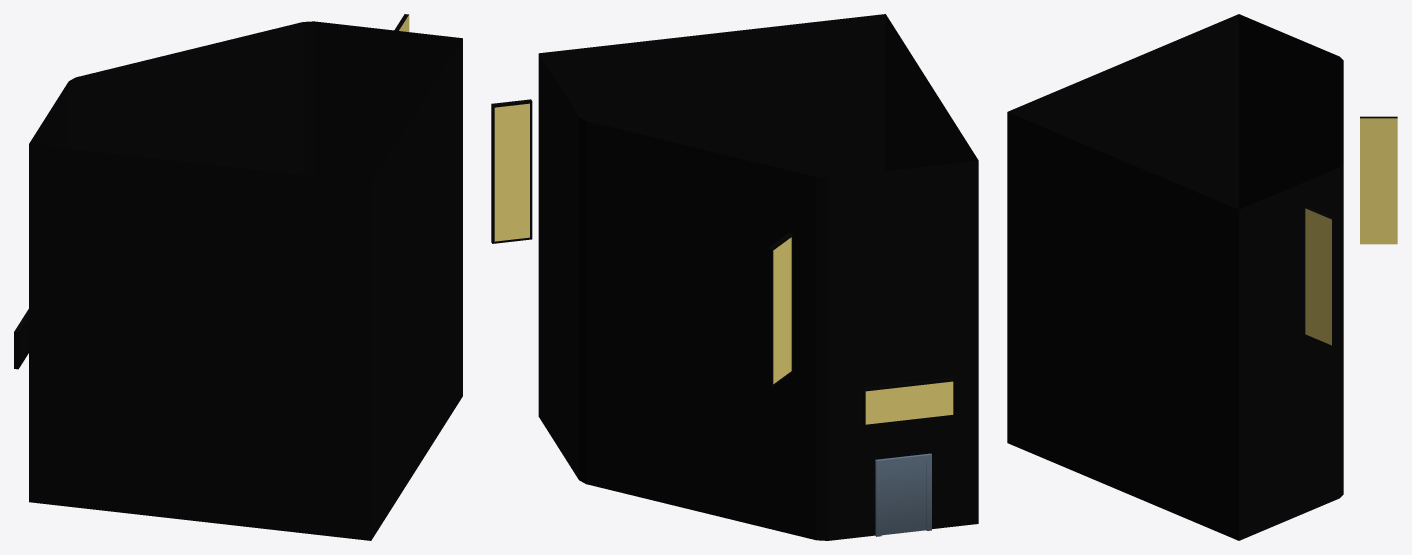
File: Comercio_Edificio_Esquina_04.FBX
The picture shows the model from 3 angles, left to right: view 1: azimuth 30°, elevation 25°; view 2: azimuth 150°, elevation 25°; view 3: azimuth 270°, elevation 25°; orthographic projection. The views are drawn at different scales.
Visible parts, largest first — view 1: Comercio_Edificio_Esquina_04; view 2: Comercio_Edificio_Esquina_04; view 3: Comercio_Edificio_Esquina_04.
Part boxes in pixels (x1,y1,x2,y2): Comercio_Edificio_Esquina_04: (14,14,462,540); Comercio_Edificio_Esquina_04: (491,14,978,540); Comercio_Edificio_Esquina_04: (1007,14,1397,540).
Bounding box in the file's own units: 1626 × 1370 × 1282.
